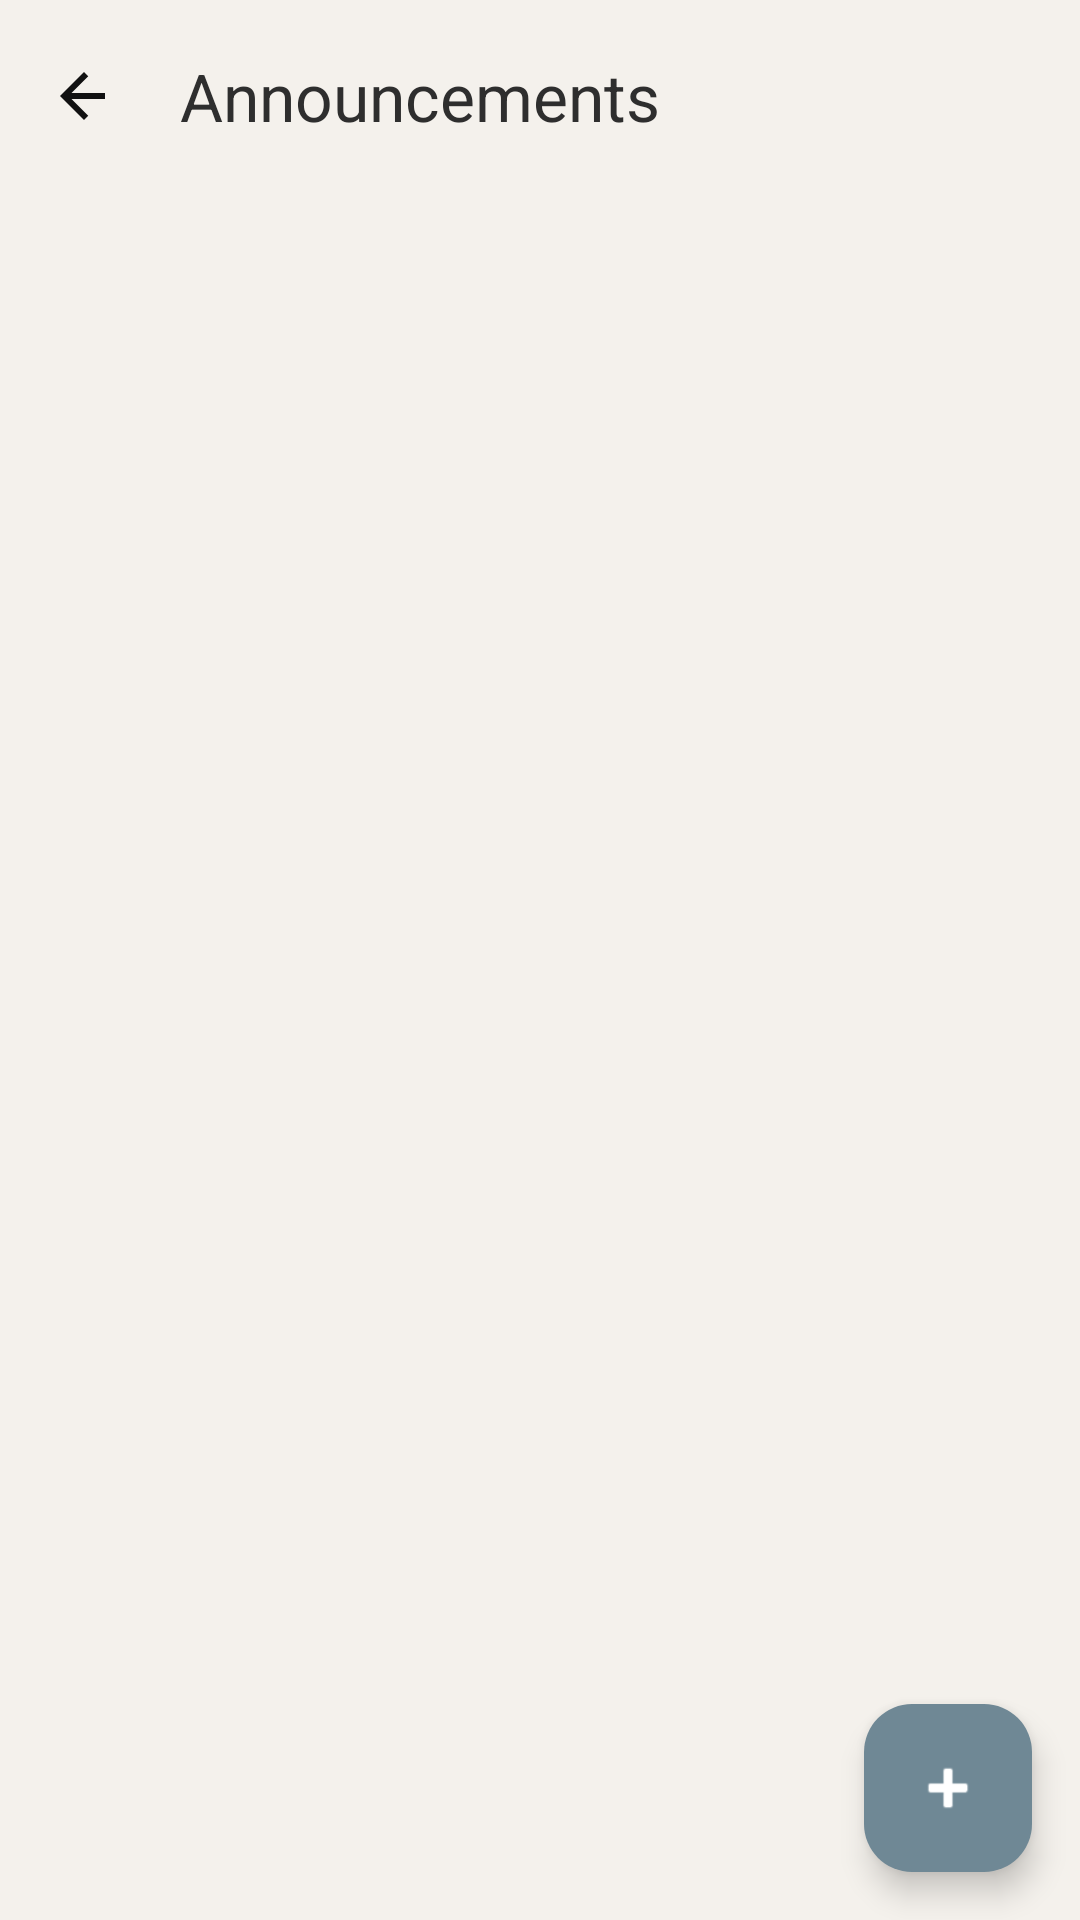

Where icons sit on this 1080w x 1920h app screen, as (x1, y1, x2, y2):
Create announcement: (864, 1704, 1032, 1872)
